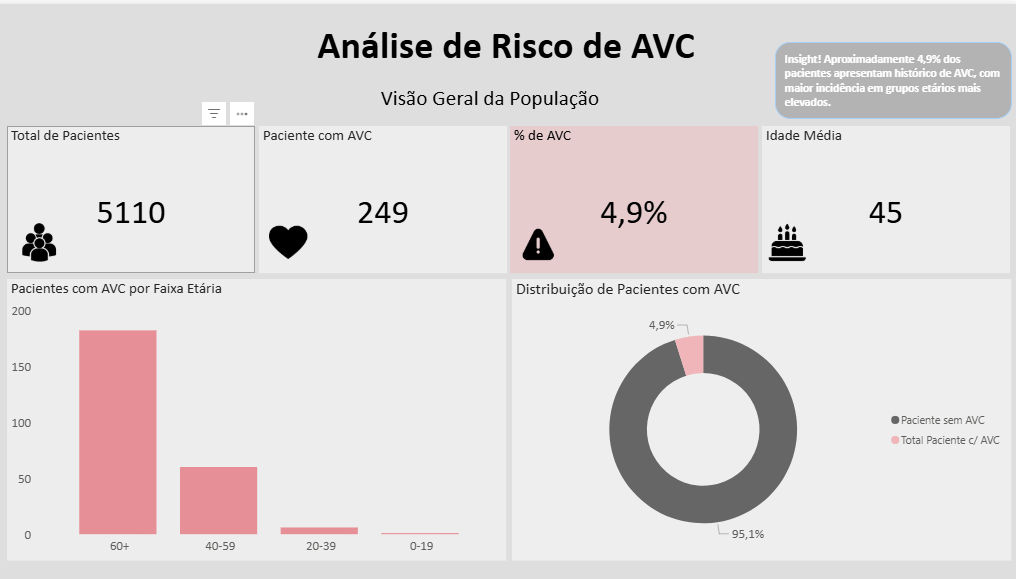

The dashboard page shown, as its layout file describes it:
{"tool":"powerbi","page":{"name":"Visão Geral","canvas":[1280,720],"ordinal":0},"visuals":[{"type":"card","title":"Total de Pacientes","fields":{"Values":["Medidas.Total Patient"]},"box":[16,152,310,184],"z":0},{"type":"card","title":"Paciente com AVC","fields":{"Values":["Medidas.Total Stroke Patient"]},"box":[330.7,152,310,184],"z":1000},{"type":"card","title":"%  de AVC","fields":{"Values":["Medidas.% Stroke"]},"box":[645.3,152,310,184],"z":2000},{"type":"card","title":"Idade Média","fields":{"Values":["Medidas.Middle Ages"]},"box":[960,152,310,184],"z":3000},{"type":"textbox","box":[0,16,1280,72],"z":4000},{"type":"textbox","box":[300,96,640,48],"z":5000},{"type":"clusteredColumnChart","title":"Pacientes com AVC por Faixa Etária","fields":{"Category":["BaseDados.age range"],"Y":["Medidas.Total Stroke Patient"]},"box":[16,344,624,352],"z":6000},{"type":"donutChart","title":"Distribuição de Pacientes com AVC","fields":{"Y":["Medidas.Paciente sem AVC","Medidas.Total Stroke Patient"]},"box":[648,344,624,352],"z":7000},{"type":"image","box":[32,270,48,56],"z":8000},{"type":"image","box":[656,270,48,56],"z":9000},{"type":"image","box":[344,270,48,56],"z":10000},{"type":"image","box":[968,270,48,56],"z":11000},{"type":"textbox","box":[976,48,296,96],"z":12000}]}

Visuals, with their boxes in screenshot pixels (x1, y1, x2, y2), scaled from the page's 1280x720 canvas onto the 1016x579 screenshot:
"Total de Pacientes" card: [x1=13, y1=122, x2=259, y2=270]
"Paciente com AVC" card: [x1=262, y1=122, x2=509, y2=270]
"%  de AVC" card: [x1=512, y1=122, x2=758, y2=270]
"Idade Média" card: [x1=762, y1=122, x2=1008, y2=270]
textbox: [x1=0, y1=13, x2=1015, y2=71]
textbox: [x1=238, y1=77, x2=746, y2=116]
"Pacientes com AVC por Faixa Etária" clusteredColumnChart: [x1=13, y1=277, x2=508, y2=560]
"Distribuição de Pacientes com AVC" donutChart: [x1=514, y1=277, x2=1010, y2=560]
image: [x1=25, y1=217, x2=64, y2=262]
image: [x1=521, y1=217, x2=559, y2=262]
image: [x1=273, y1=217, x2=311, y2=262]
image: [x1=768, y1=217, x2=806, y2=262]
textbox: [x1=775, y1=39, x2=1010, y2=116]
